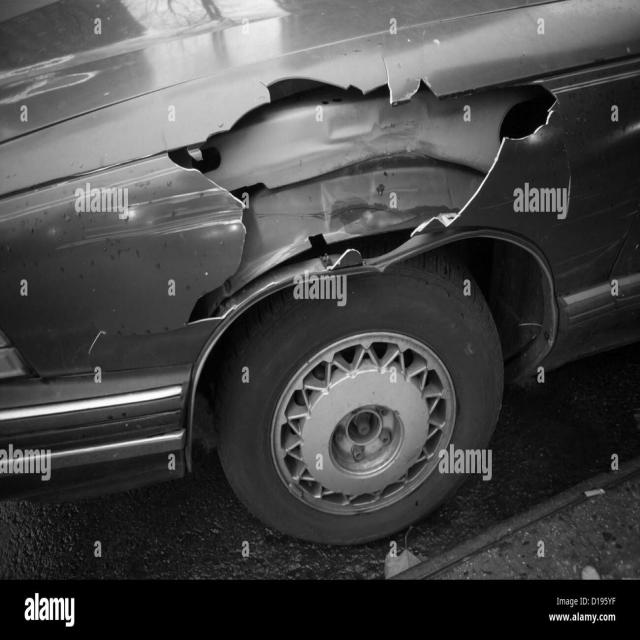tear: (119, 42, 568, 346)
